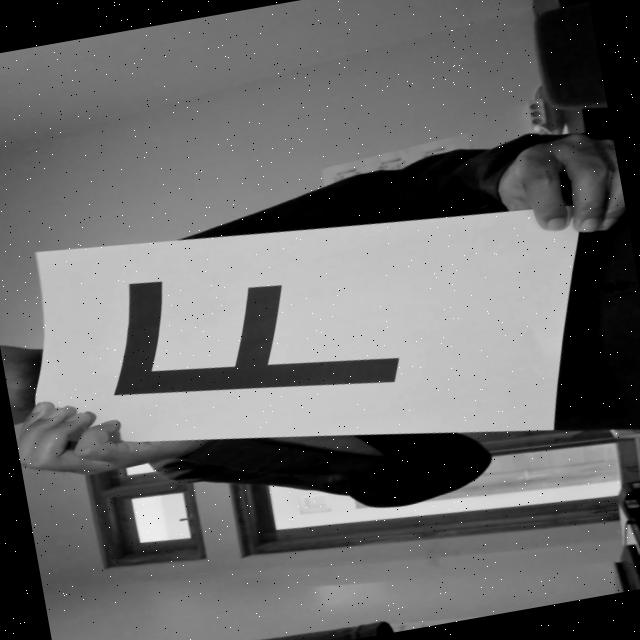f: (76, 230, 416, 448)
